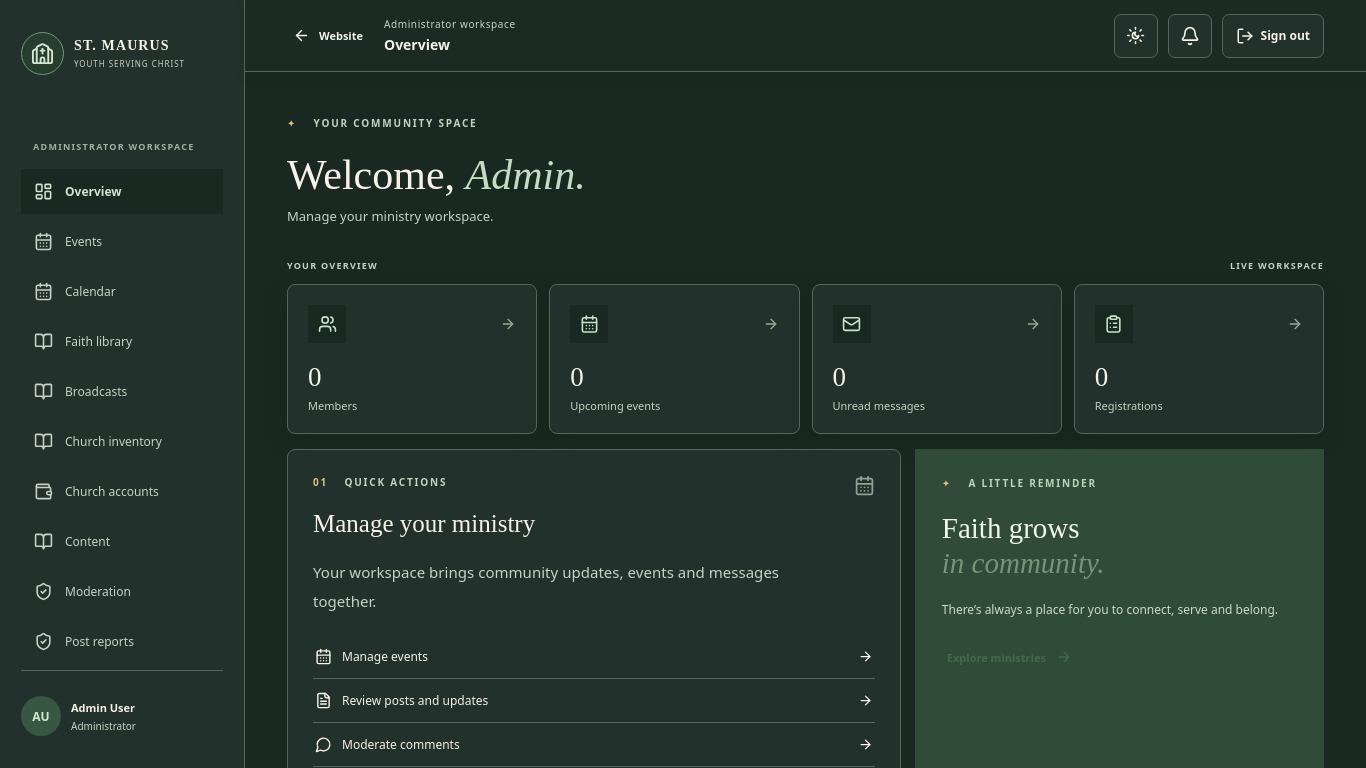
Test: administrator church accounts › records a KES entry with password reauthentication and displays totals
Later steps or results of the test are not shown.
Click the button "Church accounts": (122, 492) [21,469,223,514]
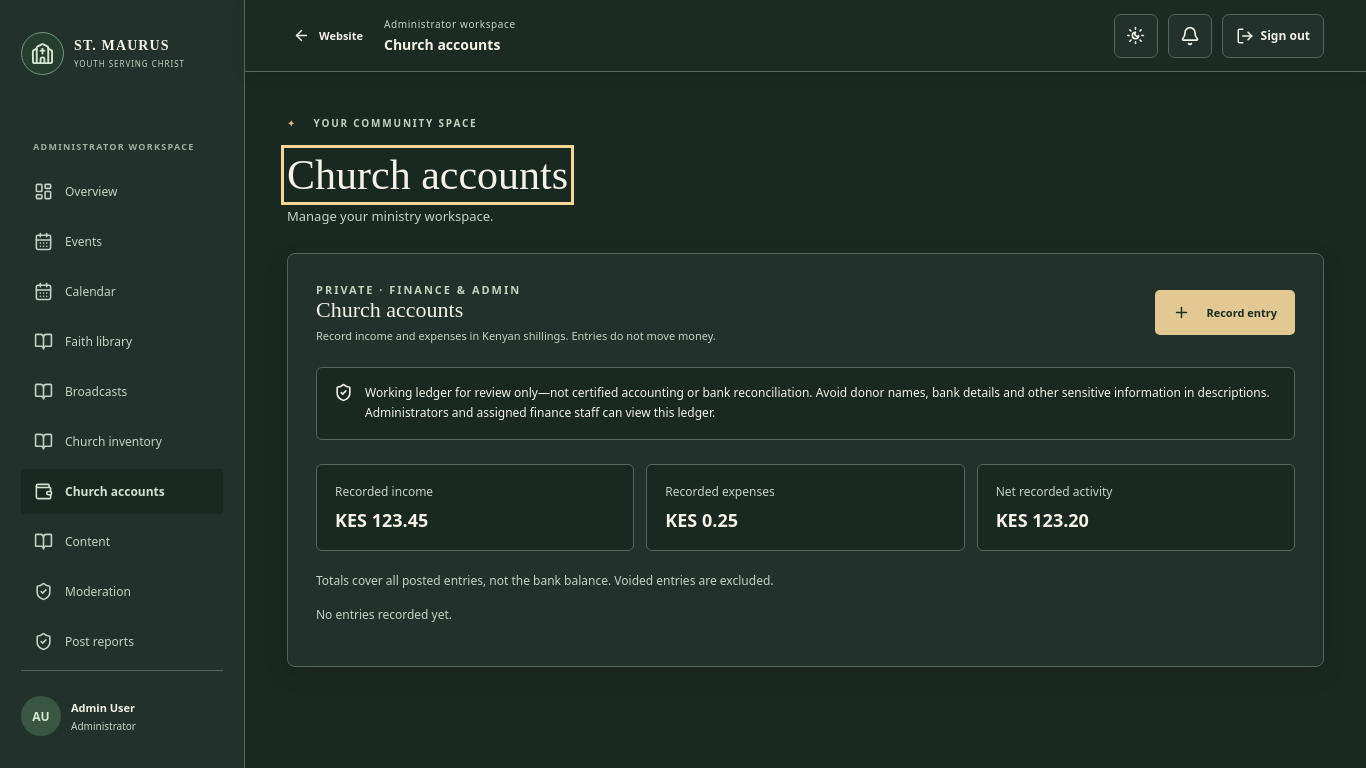
Now the text "KES 123.45" is shown, box [335,508,428,532]
